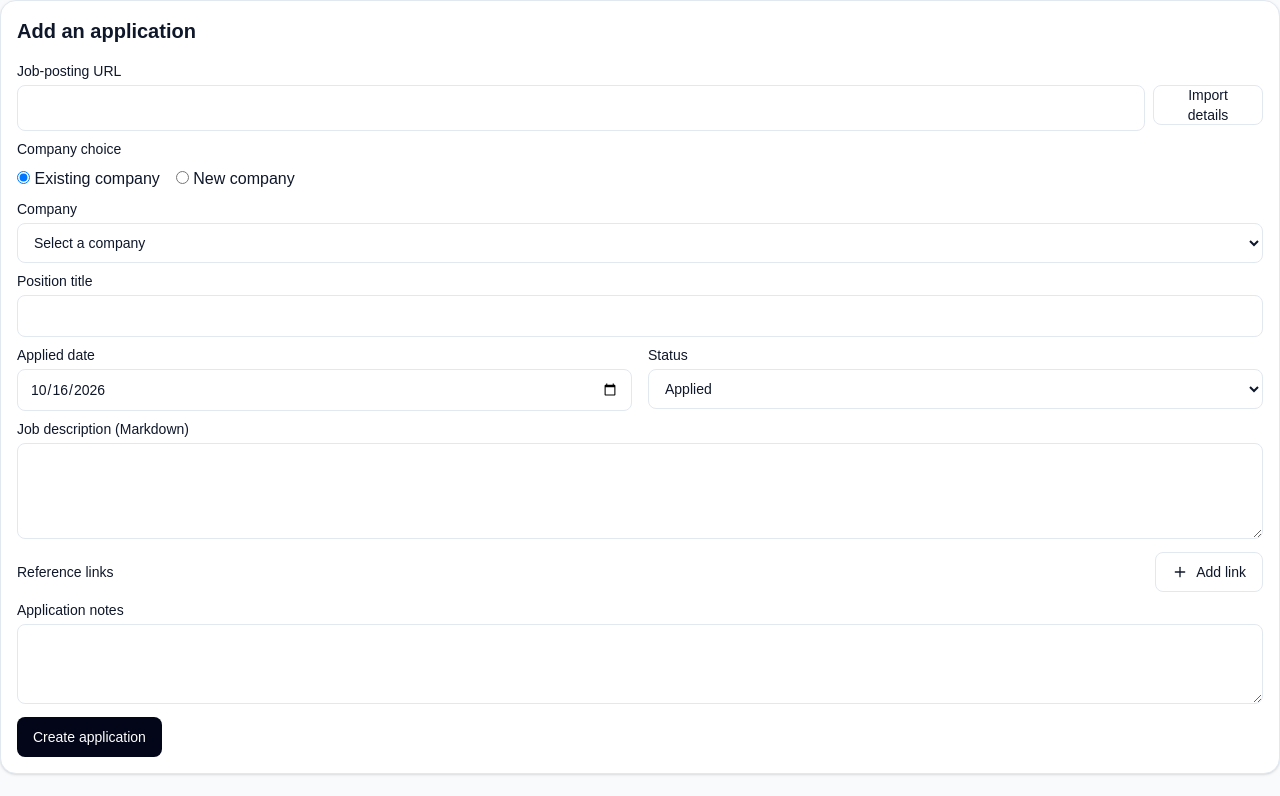
Scenario: CreateApplicationForm › handles imported company null using existing mode and clears missing posting fields
The width and height of the screenshot is (1280, 796).
Click the radio button labelled "New company".
click(182, 178)  # box x1=176 y1=171 x2=189 y2=184
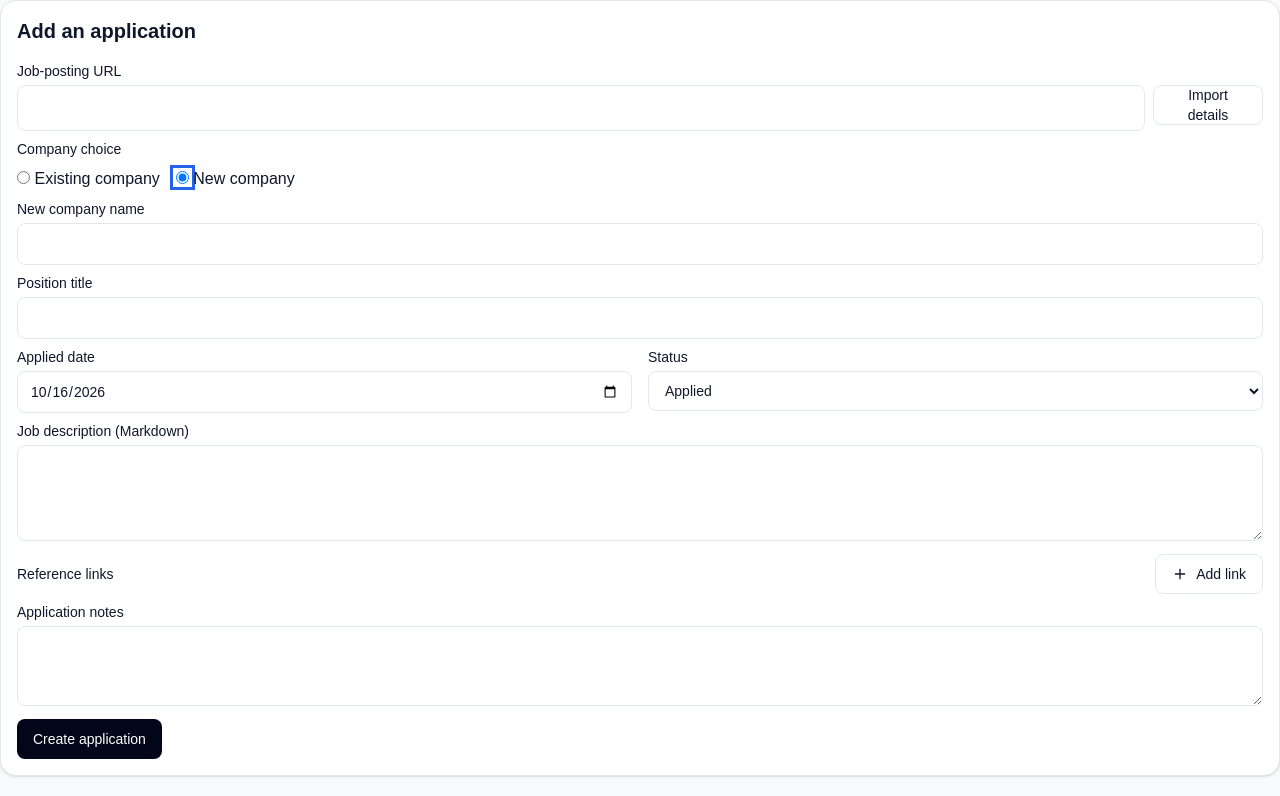
Type "Stale" into the field labelled "New company name".
click(640, 244); type("Stale")  # box x1=17 y1=223 x2=1263 y2=265
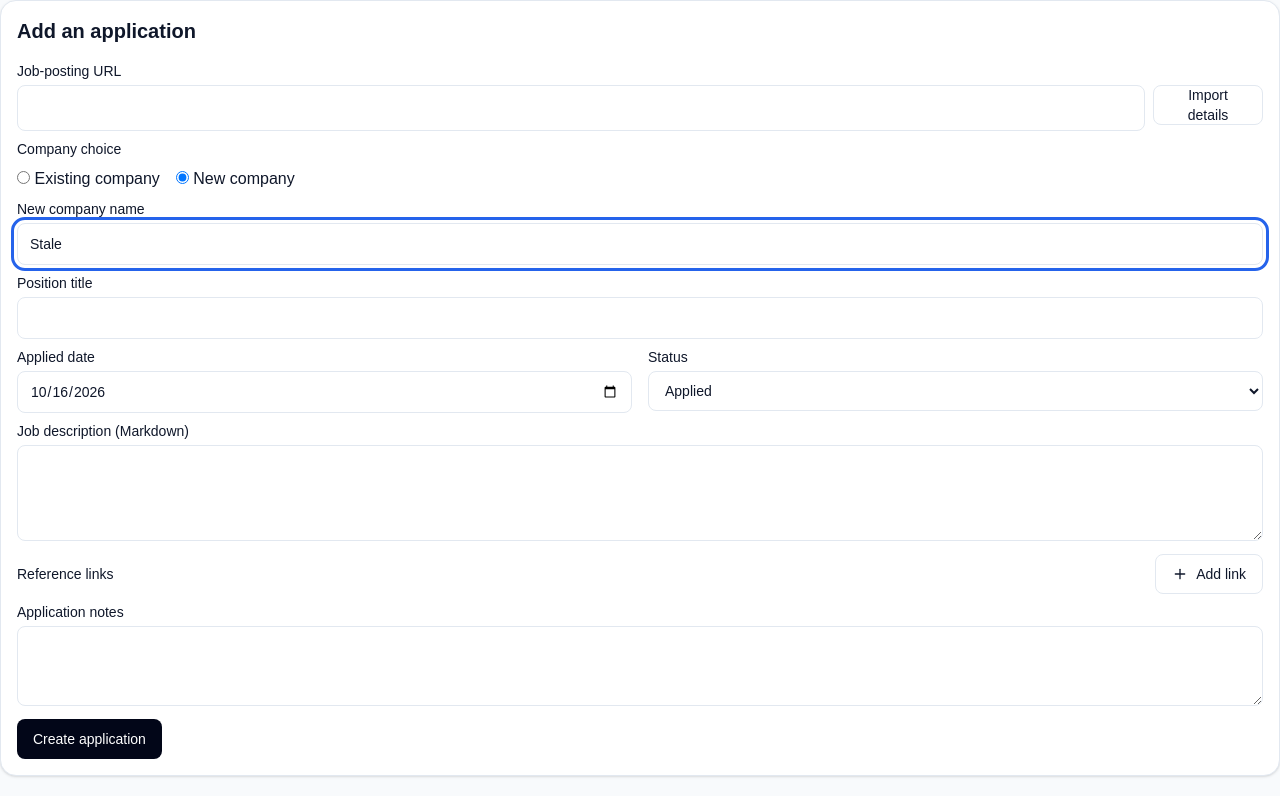
Type "Stale" into the field labelled "Position title".
click(640, 318); type("Stale")  # box x1=17 y1=297 x2=1263 y2=339
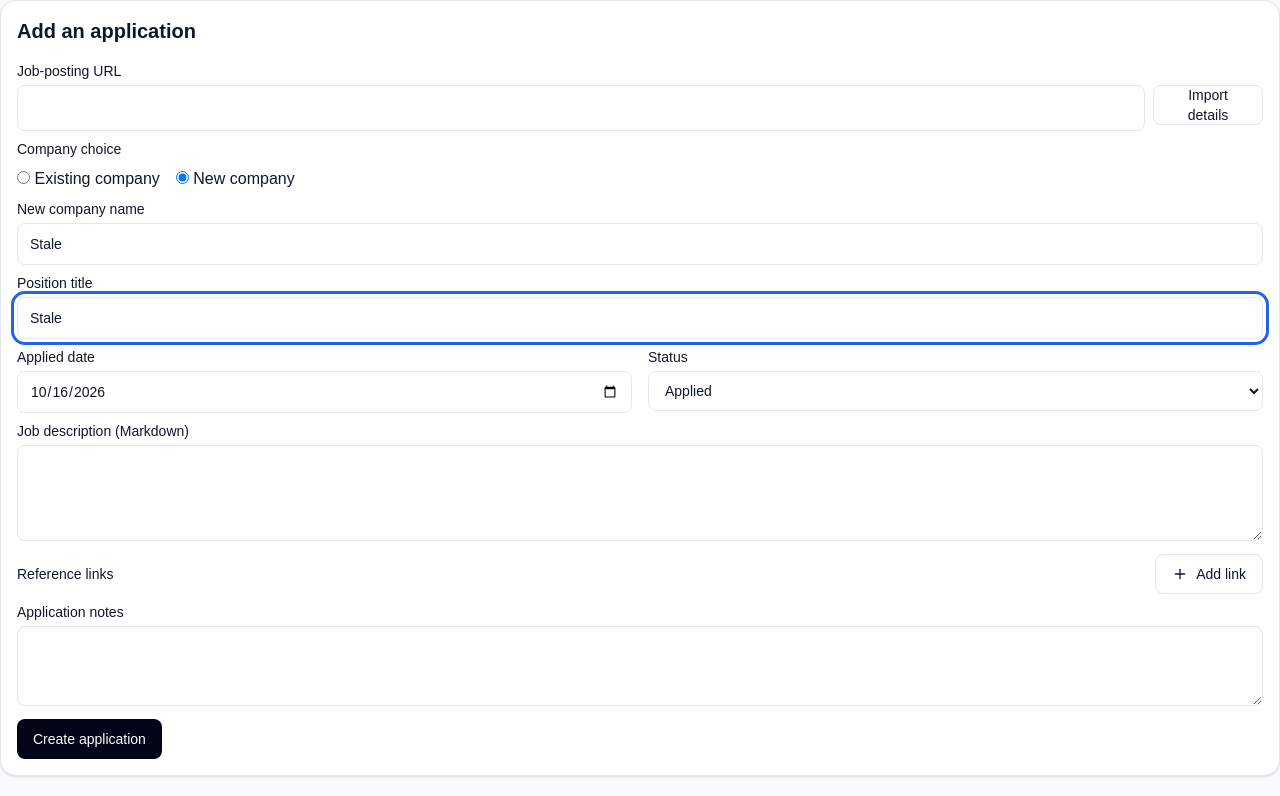
Type "Stale" into the text box labelled "Job description (Markdown)".
click(640, 493); type("Stale")  # box x1=17 y1=445 x2=1263 y2=541
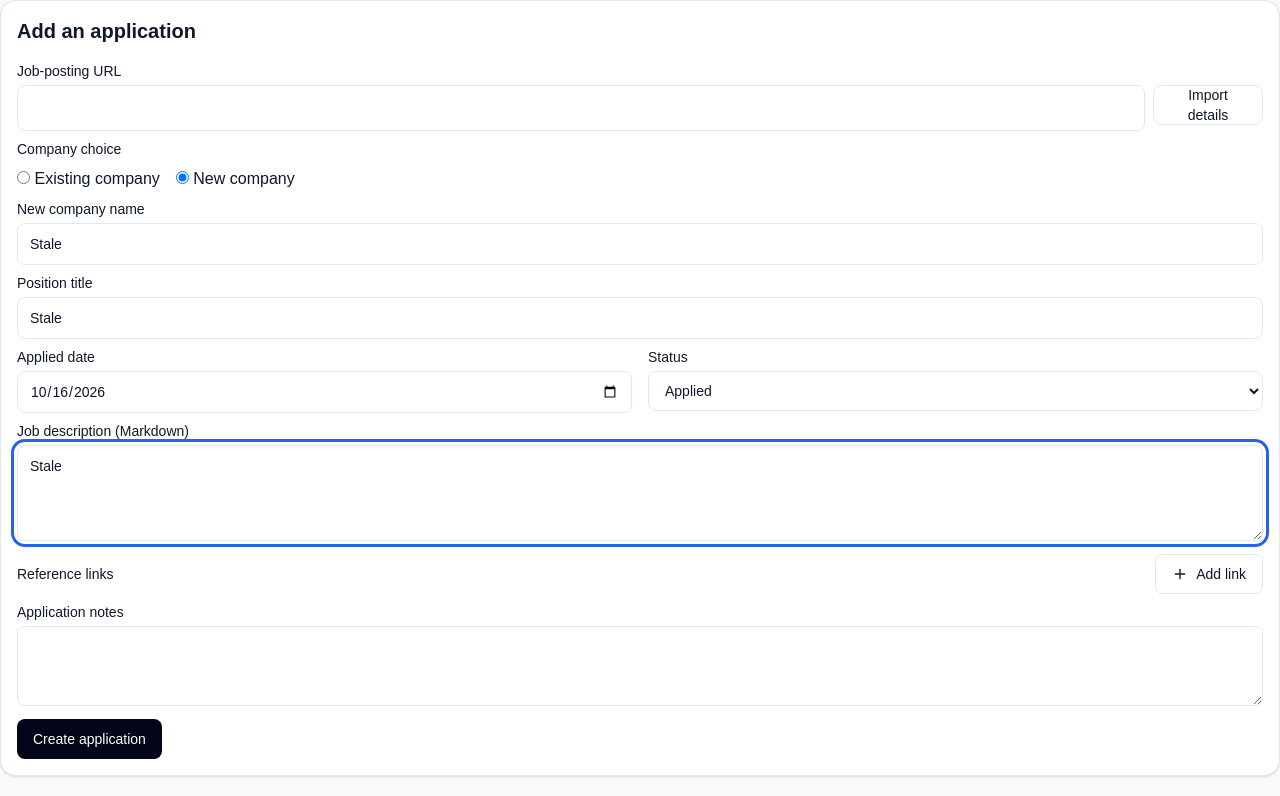
Type "https://example.com/job" into the field labelled "Job-posting URL".
click(581, 108); type("https://example.com/job")  # box x1=17 y1=85 x2=1145 y2=131
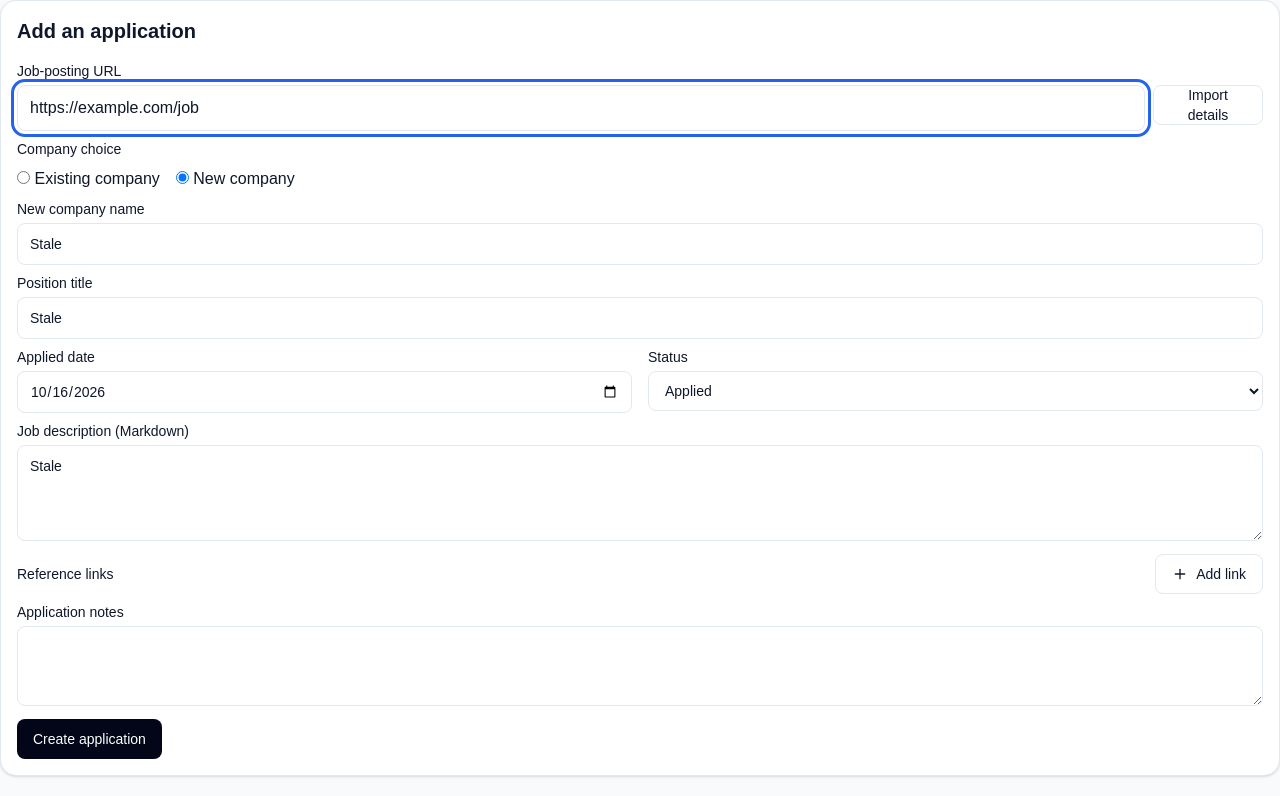
Click the button "Import details".
click(1208, 105)  # box x1=1153 y1=85 x2=1263 y2=125
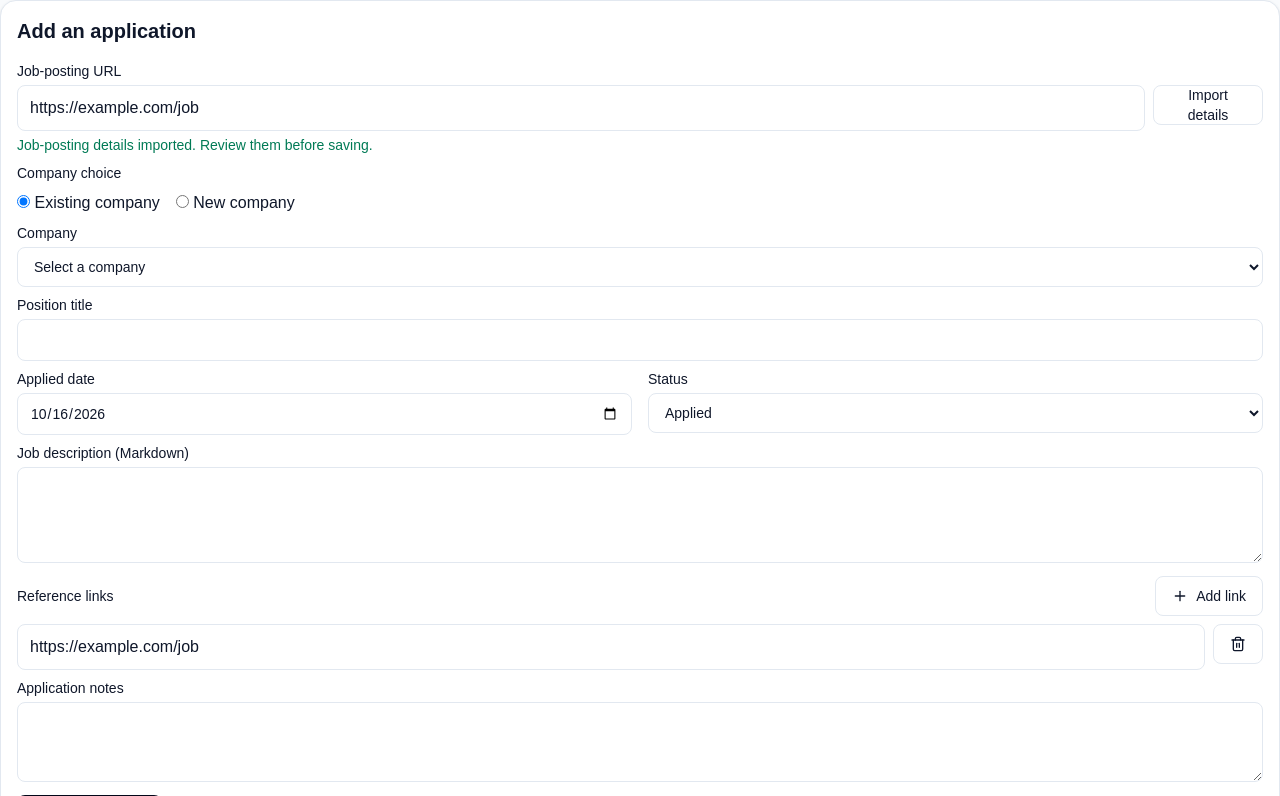
Expected: the text "Job-posting details imported. Review them before saving." is shown, x1=17 y1=137 x2=373 y2=153
Expected: the radio button labelled "Existing company" is checked, x1=17 y1=195 x2=30 y2=208
Expected: the dropdown labelled "Company" shows "Select a company", x1=17 y1=247 x2=1263 y2=287
